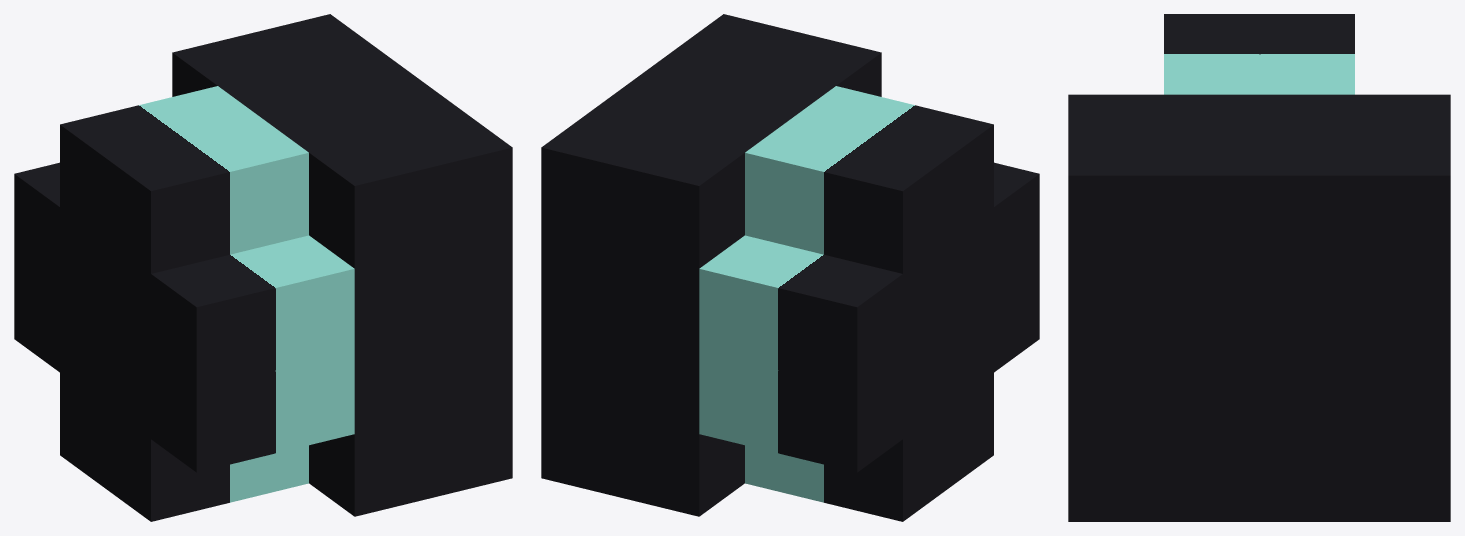
Rendered from can_frosty-6.fbx.
3 views of the same model, side by side, from view 1: azimuth 30°, elevation 25°; view 2: azimuth 150°, elevation 25°; view 3: azimuth 270°, elevation 25° (orthographic). The views are drawn at different scales.
Parts seen in each view (by area): view 1: can_frosty-6.001; view 2: can_frosty-6.001; view 3: can_frosty-6.001.
Boxes of the visible parts, x1=… form: can_frosty-6.001: x1=14, y1=14, x2=512, y2=521; can_frosty-6.001: x1=541, y1=14, x2=1039, y2=521; can_frosty-6.001: x1=1068, y1=14, x2=1450, y2=521.
Size of the model in its own units: 0.4 by 0.4 by 0.4.
Materials: 1 (1 with a texture image).
